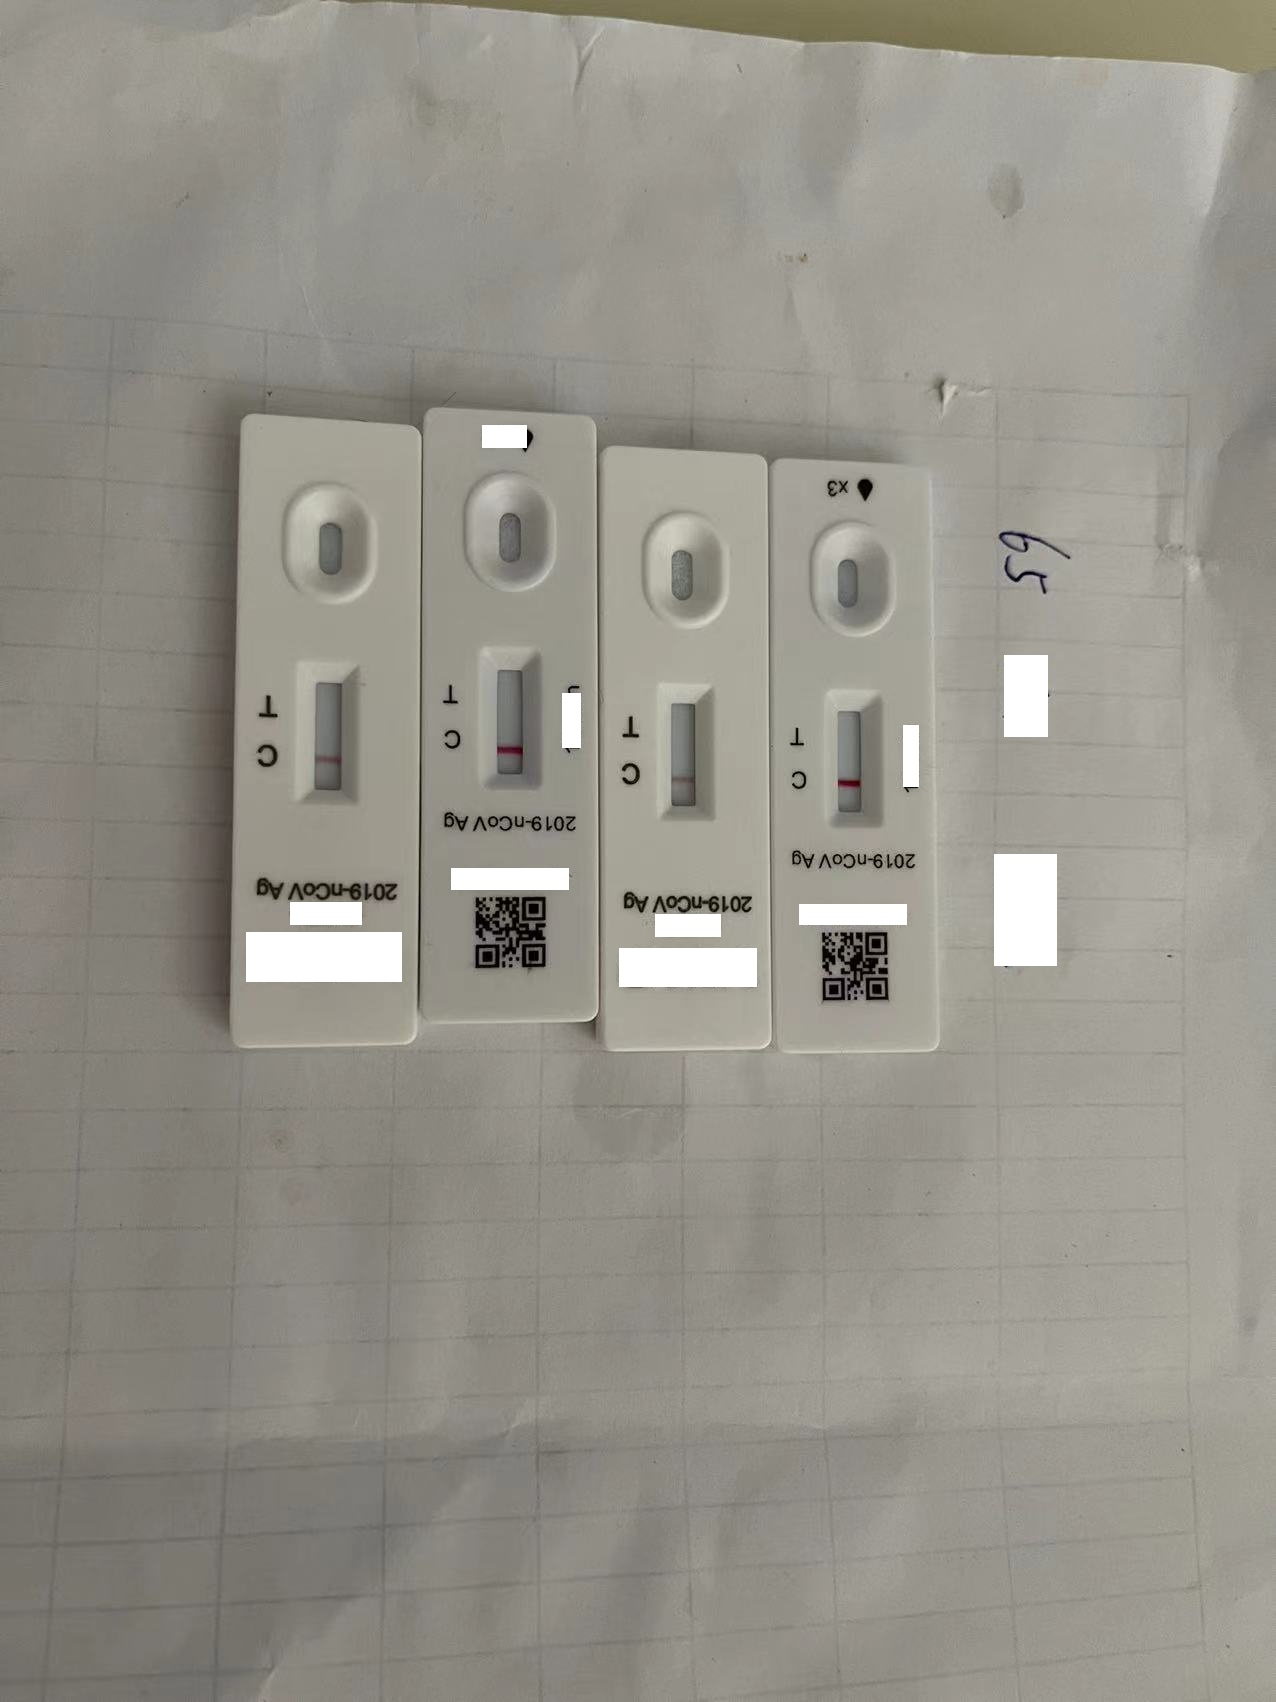negative: (477, 646, 540, 785), (298, 659, 359, 801), (823, 689, 879, 830), (657, 679, 712, 820)
